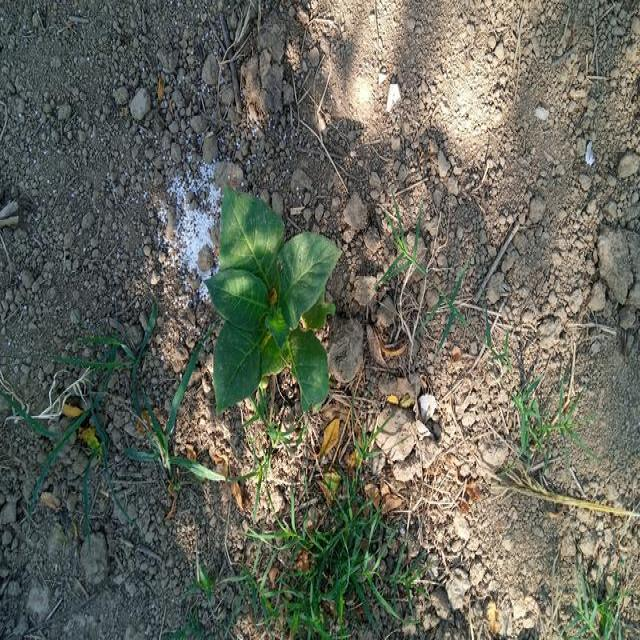crop: (201, 189, 336, 415)
